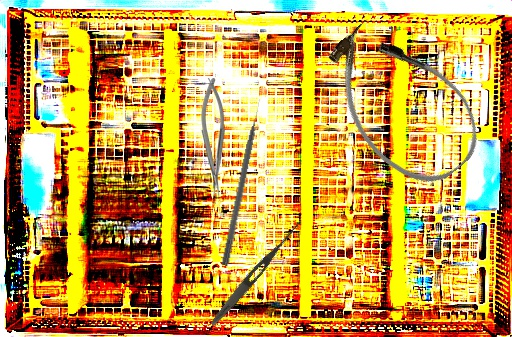Cannula: (306, 3, 497, 203)
Dressing Forceps: (208, 220, 301, 329)
Needle Holder: (201, 78, 225, 196)
Pusher: (220, 98, 266, 267)
